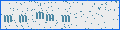m: (19, 15, 28, 23), (61, 15, 71, 22), (46, 14, 54, 22), (4, 15, 12, 23), (36, 12, 44, 19)
